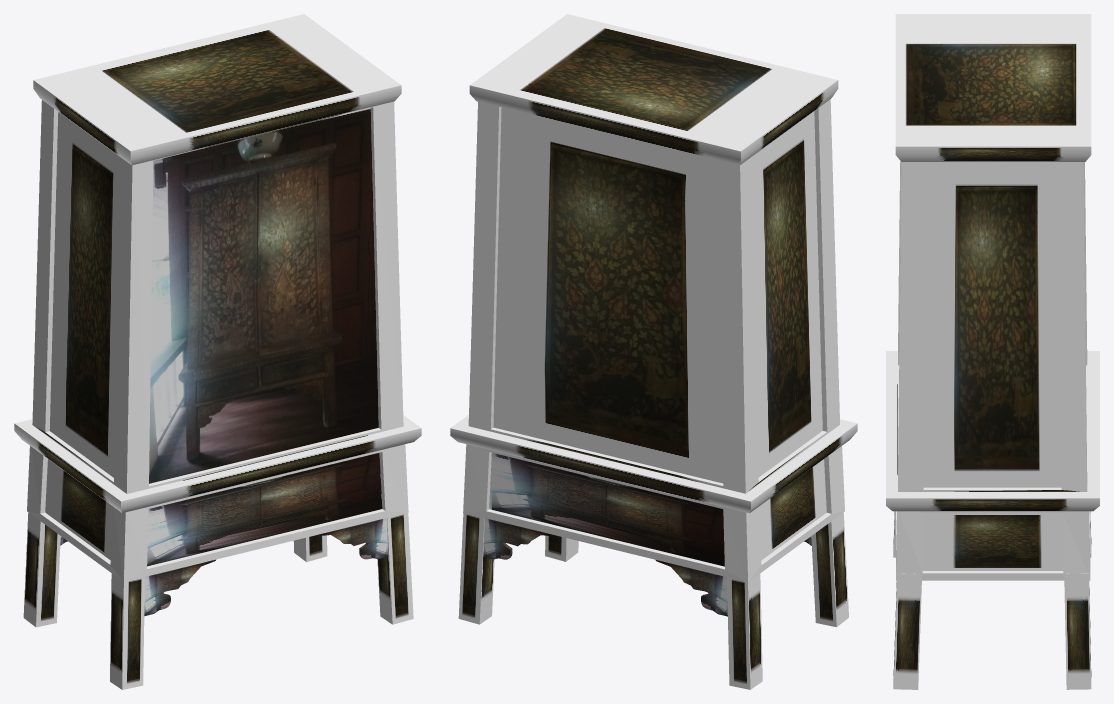
The model's file is Cabinet1.glb.
The picture shows the model from 3 angles, left to right: view 1: azimuth 30°, elevation 25°; view 2: azimuth 150°, elevation 25°; view 3: azimuth 270°, elevation 25°; orthographic projection.
Visible parts, largest first — view 1: Box02, Box01, Box04, Box03, Box11, Box09, Box10, Shape02, Shape1, Box08; view 2: Box02, Box01, Box04, Box03, Box09, Box11, Box08, Shape03, Shape04, Box10; view 3: Box02, Box01, Box04, Box03, Box10, Box08.
Boxes of the visible parts, x1=… form: Box02: x1=32, y1=100, x2=403, y2=493; Box01: x1=33, y1=14, x2=401, y2=165; Box04: x1=27, y1=444, x2=408, y2=581; Box03: x1=14, y1=415, x2=421, y2=512; Box11: x1=110, y1=573, x2=144, y2=689; Box09: x1=23, y1=512, x2=60, y2=627; Box10: x1=377, y1=513, x2=413, y2=624; Shape02: x1=315, y1=518, x2=388, y2=559; Shape1: x1=144, y1=559, x2=215, y2=616; Box08: x1=293, y1=535, x2=327, y2=561; Box02: x1=468, y1=99, x2=839, y2=493; Box01: x1=469, y1=14, x2=838, y2=165; Box04: x1=463, y1=444, x2=844, y2=582; Box03: x1=450, y1=415, x2=857, y2=513; Box09: x1=727, y1=574, x2=762, y2=689; Box11: x1=811, y1=512, x2=848, y2=627; Box08: x1=458, y1=513, x2=494, y2=624; Shape03: x1=483, y1=518, x2=555, y2=559; Shape04: x1=655, y1=560, x2=727, y2=616; Box10: x1=545, y1=535, x2=578, y2=561; Box02: x1=898, y1=161, x2=1087, y2=491; Box01: x1=895, y1=14, x2=1091, y2=161; Box04: x1=896, y1=511, x2=1090, y2=580; Box03: x1=886, y1=351, x2=1099, y2=511; Box10: x1=893, y1=573, x2=922, y2=689; Box08: x1=1064, y1=573, x2=1091, y2=689.
Bounding box in the file's own units: 14.09 × 24.06 × 8.66.
Materials: 6 (6 with a texture image).
